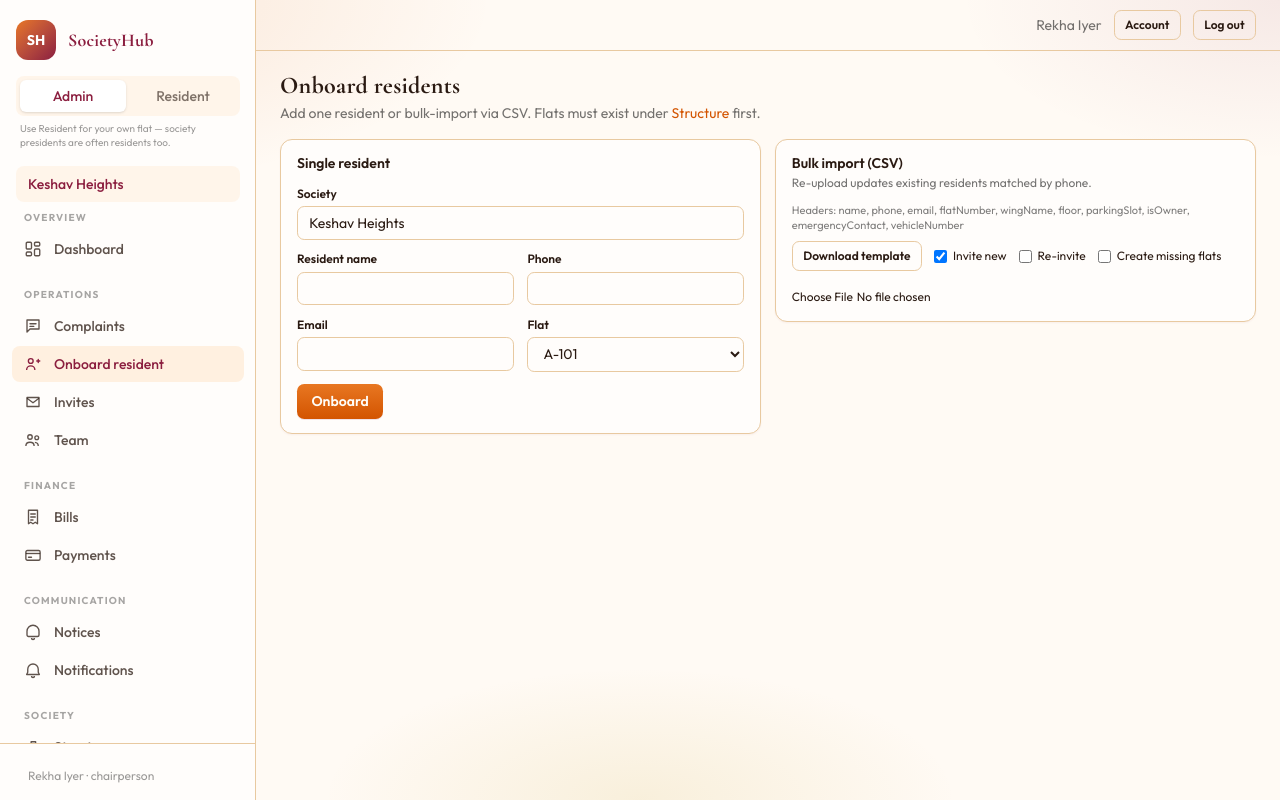
Test case: Client App staff onboard resident (Admin mode) › onboards a resident from the Client App Admin mode
This screenshot has width=1280, height=800.
Expected: the heading "Onboard residents" is shown, x1=280 y1=71 x2=460 y2=100
Expected: the field with test id "onboard-society-name" is disabled, x1=297 y1=206 x2=744 y2=240
Type "Test Resident" into the field with id "name" at (406, 289), box x1=297 y1=272 x2=514 y2=306
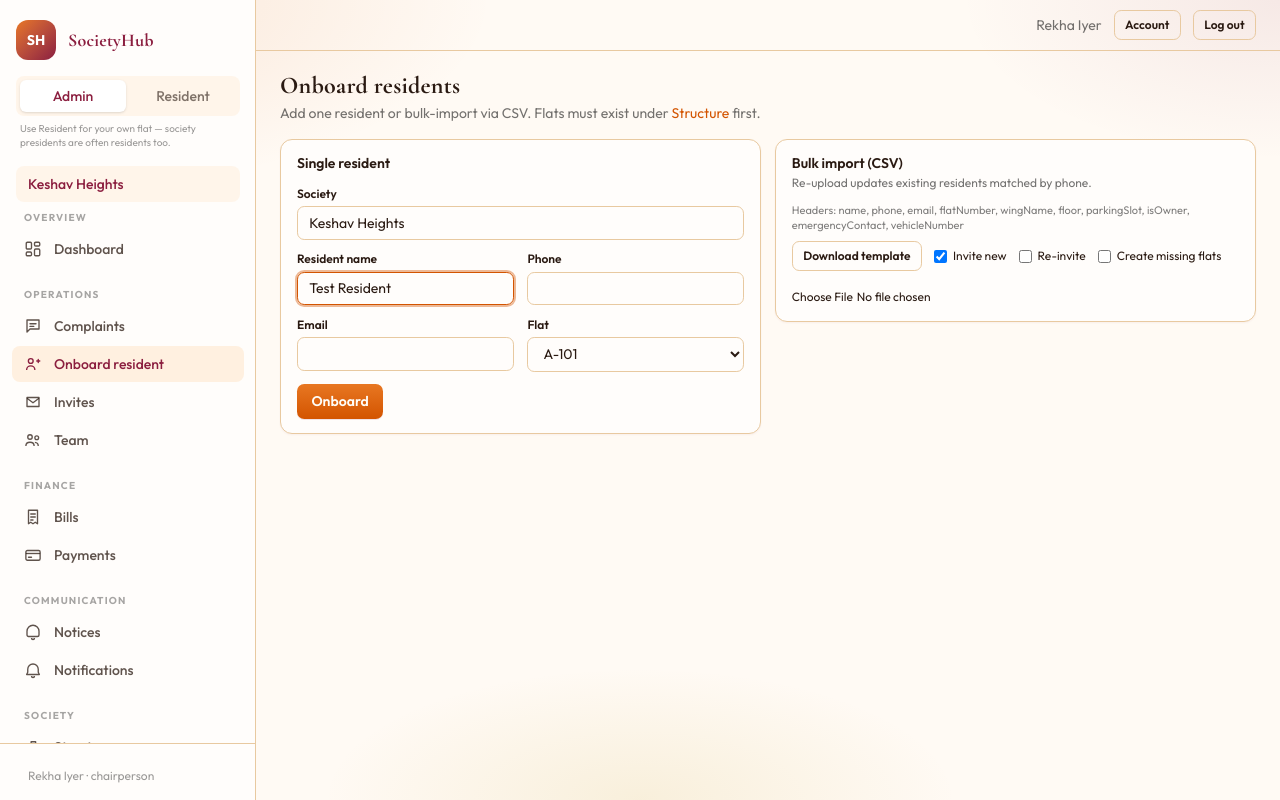
Type "9999999999" into the field labelled "Phone" at (636, 289), box x1=527 y1=272 x2=744 y2=306
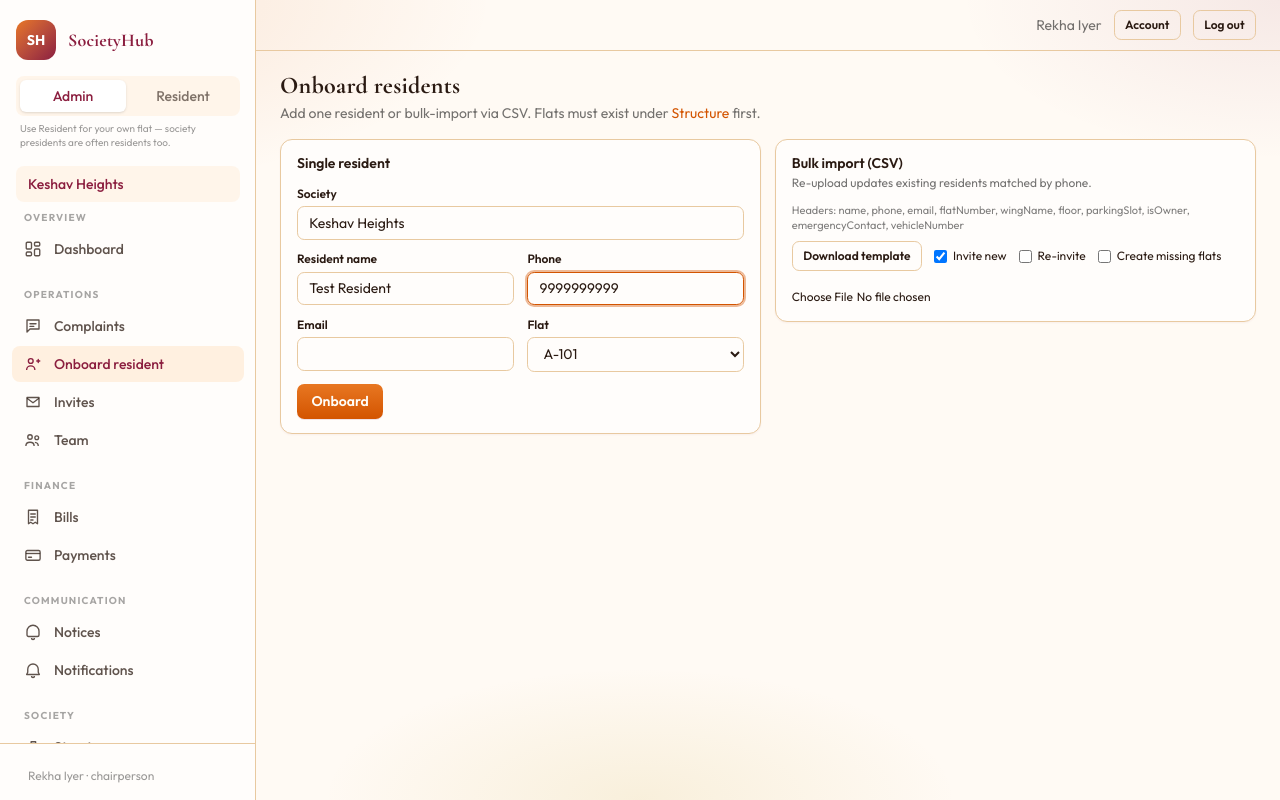
Type "resident@example.com" into the field with id "onboard-email" at (406, 354), box x1=297 y1=337 x2=514 y2=371
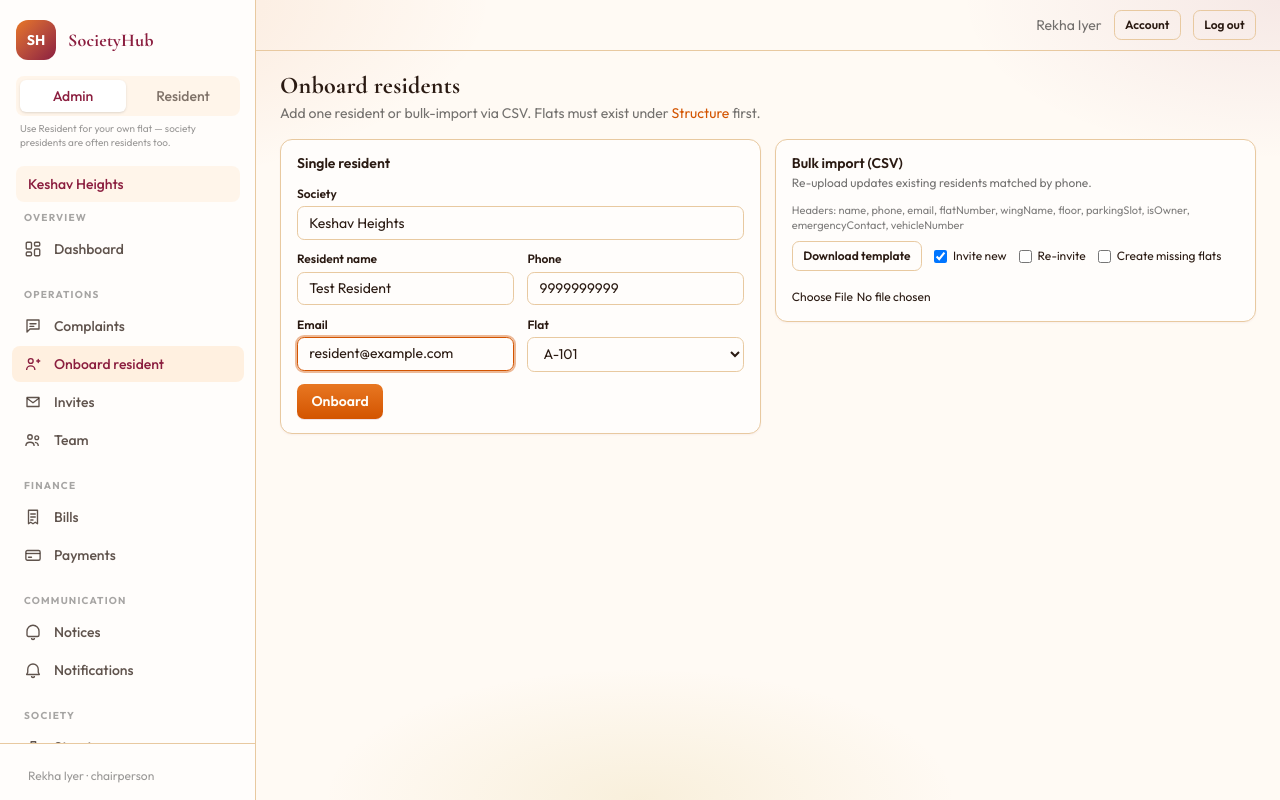
Click the button with test id "onboard-submit" at (340, 402), box x1=297 y1=384 x2=383 y2=419
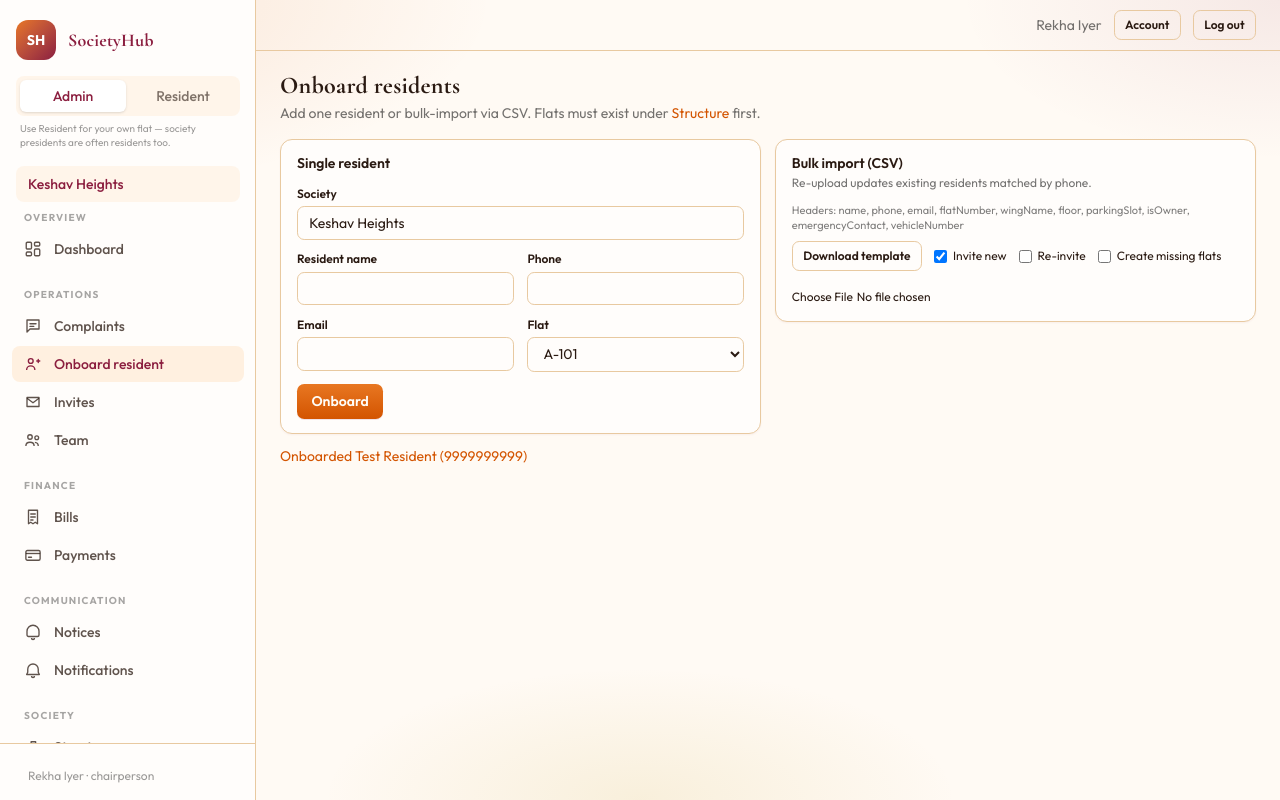
Now the text "Onboarded Test Resident" is shown, box x1=280 y1=447 x2=527 y2=465
